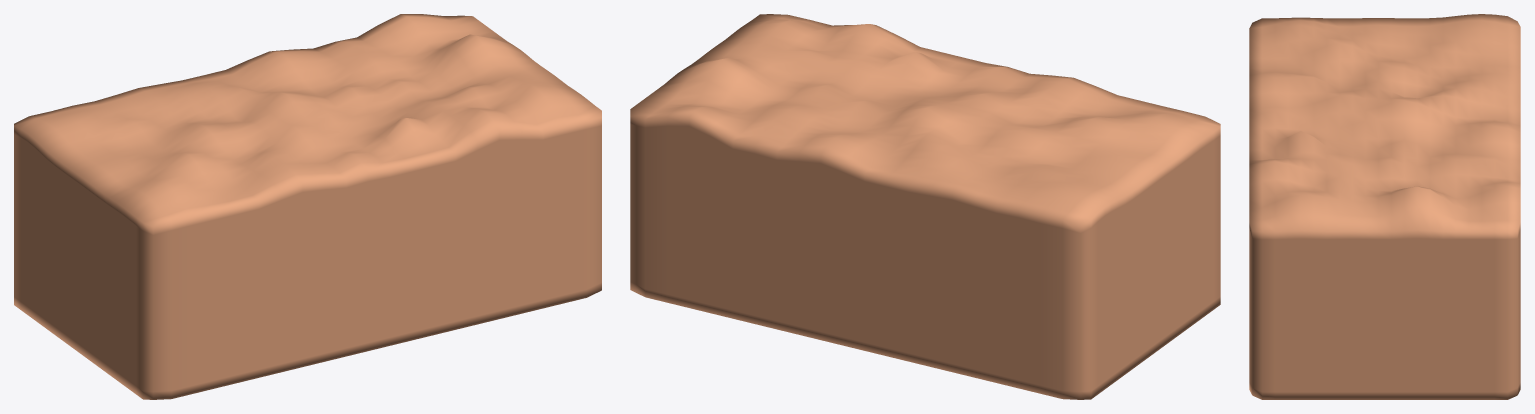
File: vainilla_lleno.fbx
3 views of the same model, side by side, from view 1: azimuth 30°, elevation 25°; view 2: azimuth 150°, elevation 25°; view 3: azimuth 270°, elevation 25° (orthographic). The views are drawn at different scales.
Visible parts, largest first — view 1: Vainilla_Lleno; view 2: Vainilla_Lleno; view 3: Vainilla_Lleno.
Boxes of the visible parts, box(x1,y1,x2,y2) form: Vainilla_Lleno: box(14, 14, 601, 399); Vainilla_Lleno: box(630, 14, 1220, 399); Vainilla_Lleno: box(1249, 14, 1520, 399).
Size of the model in its own units: 351 by 148 by 189.
